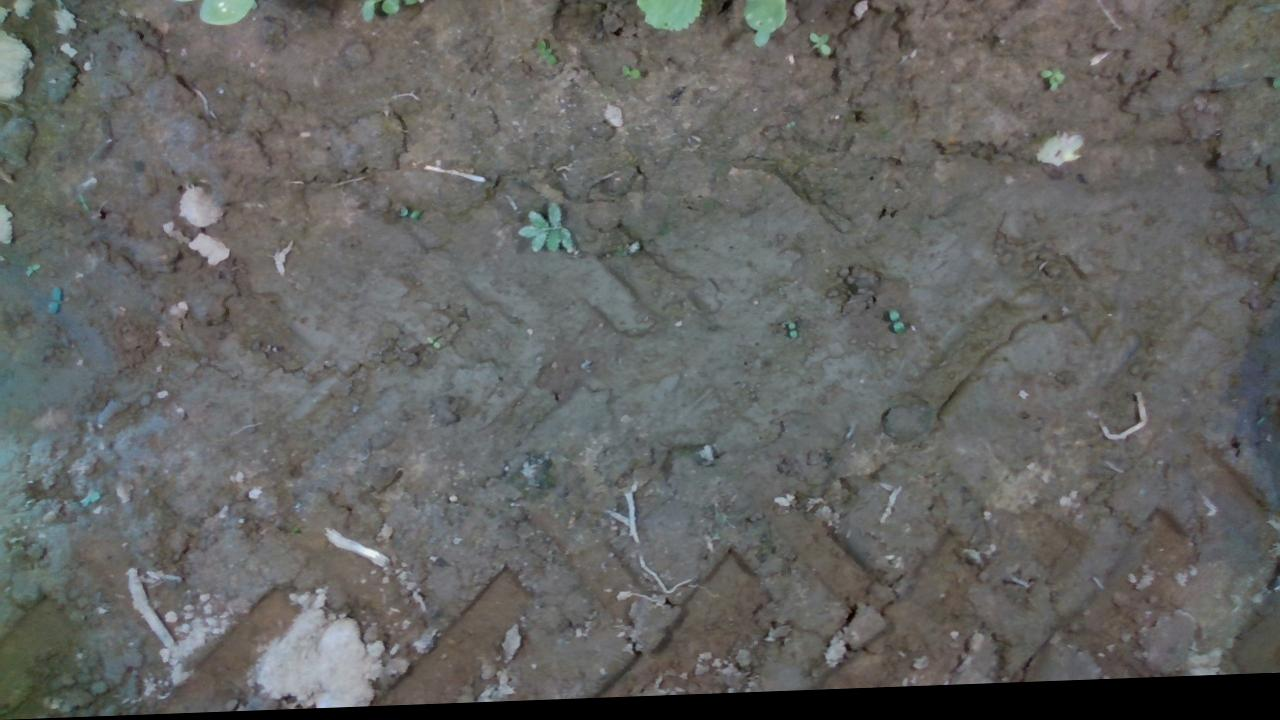weed: (534, 39, 557, 70), (806, 36, 830, 63), (886, 313, 906, 342), (423, 337, 443, 354), (621, 68, 640, 85), (787, 325, 798, 345)
